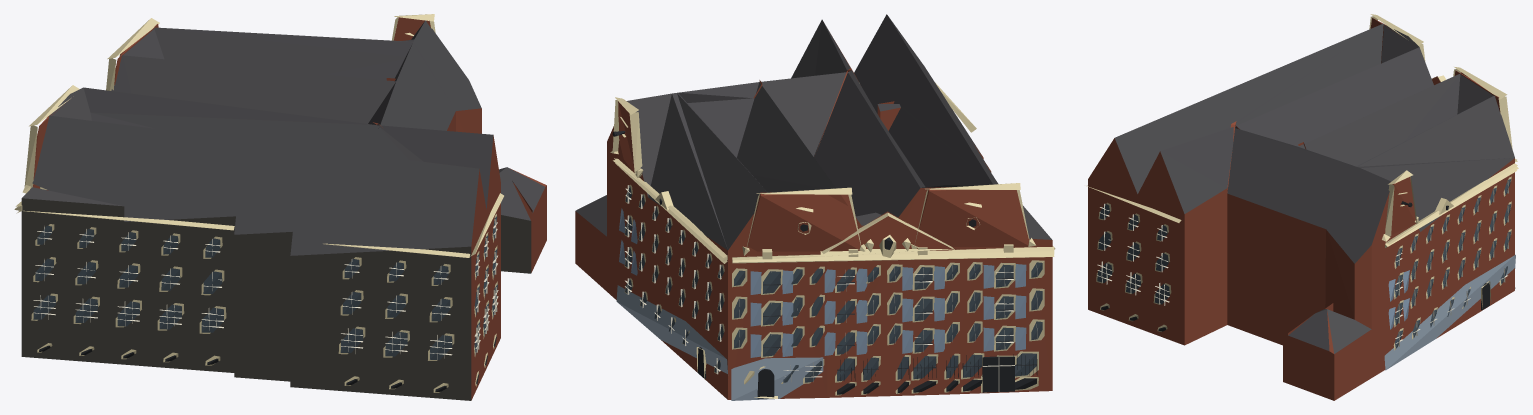
The model's file is west-indisch-pakhuis.lod1.glb.
3 views of the same model, side by side, from view 1: azimuth 30°, elevation 25°; view 2: azimuth 150°, elevation 25°; view 3: azimuth 270°, elevation 25° (orthographic). The views are drawn at different scales.
Visible parts, largest first — view 1: west-indisch-pakhuis; view 2: west-indisch-pakhuis; view 3: west-indisch-pakhuis.
Part boxes in pixels (x1,y1,x2,y2): west-indisch-pakhuis: (14,14,546,400); west-indisch-pakhuis: (575,14,1055,400); west-indisch-pakhuis: (1086,14,1518,400).
Bounding box in the file's own units: 47.58 × 19.3 × 40.92.
